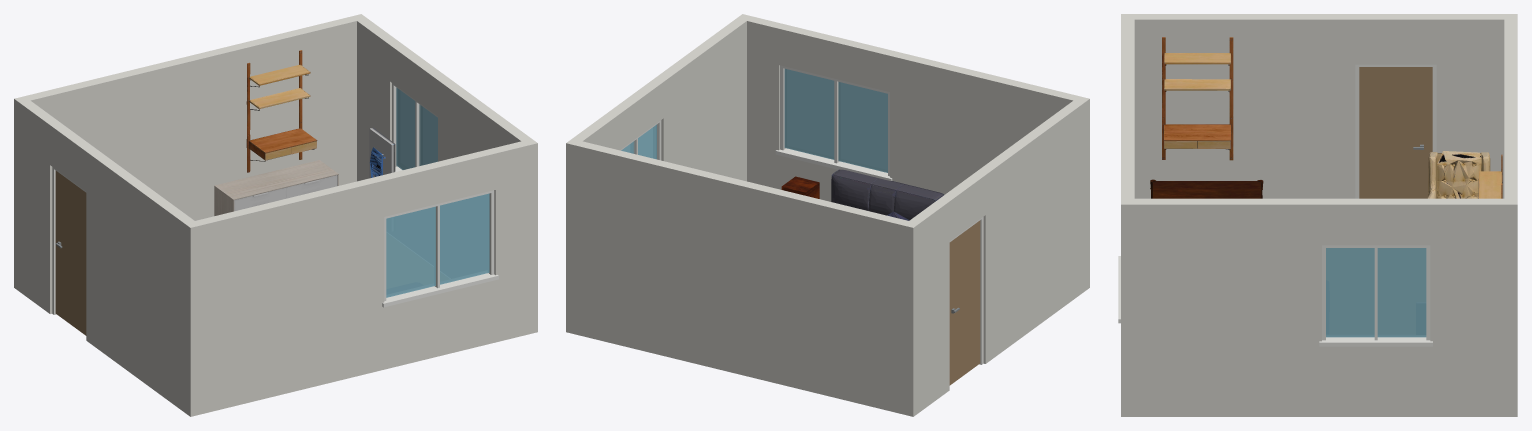
File: holodeck.glb
The picture shows the model from 3 angles, left to right: view 1: azimuth 30°, elevation 25°; view 2: azimuth 150°, elevation 25°; view 3: azimuth 270°, elevation 25°; orthographic projection. The views are drawn at different scales.
Visible parts, largest first — view 1: wall|scenesmith_064__R00|0, wall|scenesmith_064__R00|1, wall|scenesmith_064__R00|2, wall|scenesmith_064__R00|3, wall|scenesmith_064__R00|0 Window 0 | glazing, wall|scenesmith_064__R00|2 Door 0 | wood leaf, raw_model, scenesmith_064__R00_7, wall|scenesmith_064__R00|3 Window 0 | glazing, wall|scenesmith_064__R00|0 Window 0 | jamb, scenesmith_064__R00_9, wall|scenesmith_064__R00|3 Window 0 | jamb (+1 smaller); view 2: wall|scenesmith_064__R00|1, wall|scenesmith_064__R00|2, wall|scenesmith_064__R00|0, wall|scenesmith_064__R00|3, wall|scenesmith_064__R00|0 Window 0 | glazing, wall|scenesmith_064__R00|2 Door 0 | wood leaf, scenesmith_064__R00_0, wall|scenesmith_064__R00|0 Window 0 | jamb, wall|scenesmith_064__R00|2 Door 0 | jamb, wall|scenesmith_064__R00|3 Window 0 | glazing, scenesmith_064__R00_1; view 3: wall|scenesmith_064__R00|3, wall|scenesmith_064__R00|2, wall|scenesmith_064__R00|2 Door 0 | wood leaf, wall|scenesmith_064__R00|3 Window 0 | glazing, wall|scenesmith_064__R00|1, scenesmith_064__R00_7, scenesmith_064__R00_5, wall|scenesmith_064__R00|3 Window 0 | jamb, wall|scenesmith_064__R00|0, scenesmith_064__R00_4, wall|scenesmith_064__R00|2 Door 0 | jamb.
Part boxes in pixels (x1,y1,x2,y2): wall|scenesmith_064__R00|0: (195, 139, 537, 414); wall|scenesmith_064__R00|1: (14, 14, 366, 291); wall|scenesmith_064__R00|2: (14, 96, 200, 416); wall|scenesmith_064__R00|3: (353, 16, 536, 181); wall|scenesmith_064__R00|0 Window 0 | glazing: (386, 193, 489, 297); wall|scenesmith_064__R00|2 Door 0 | wood leaf: (55, 170, 86, 335); raw_model: (214, 160, 338, 215); scenesmith_064__R00_7: (246, 50, 317, 172); wall|scenesmith_064__R00|3 Window 0 | glazing: (396, 87, 437, 169); wall|scenesmith_064__R00|0 Window 0 | jamb: (382, 190, 498, 307); scenesmith_064__R00_9: (369, 128, 395, 178); wall|scenesmith_064__R00|3 Window 0 | jamb: (392, 83, 437, 172); wall|scenesmith_064__R00|1: (566, 139, 919, 416); wall|scenesmith_064__R00|2: (903, 96, 1089, 416); wall|scenesmith_064__R00|0: (737, 14, 1078, 201); wall|scenesmith_064__R00|3: (572, 14, 752, 181); wall|scenesmith_064__R00|0 Window 0 | glazing: (784, 68, 887, 172); wall|scenesmith_064__R00|2 Door 0 | wood leaf: (949, 220, 980, 385); scenesmith_064__R00_0: (831, 169, 943, 220); wall|scenesmith_064__R00|0 Window 0 | jamb: (775, 65, 892, 180); wall|scenesmith_064__R00|2 Door 0 | jamb: (949, 217, 983, 364); wall|scenesmith_064__R00|3 Window 0 | glazing: (621, 124, 656, 159); scenesmith_064__R00_1: (781, 176, 819, 198); wall|scenesmith_064__R00|3: (1121, 198, 1517, 416); wall|scenesmith_064__R00|2: (1121, 14, 1517, 198); wall|scenesmith_064__R00|2 Door 0 | wood leaf: (1359, 67, 1432, 198); wall|scenesmith_064__R00|3 Window 0 | glazing: (1326, 248, 1426, 337); wall|scenesmith_064__R00|1: (1504, 19, 1517, 416); scenesmith_064__R00_7: (1162, 37, 1502, 198); scenesmith_064__R00_5: (1427, 151, 1490, 198); wall|scenesmith_064__R00|3 Window 0 | jamb: (1319, 245, 1432, 346); wall|scenesmith_064__R00|0: (1121, 19, 1134, 204); scenesmith_064__R00_4: (1150, 179, 1263, 198); wall|scenesmith_064__R00|2 Door 0 | jamb: (1355, 64, 1436, 198).
Size of the model in its own units: 5.03 by 2.61 by 4.43.
14 materials, 8 textured.
